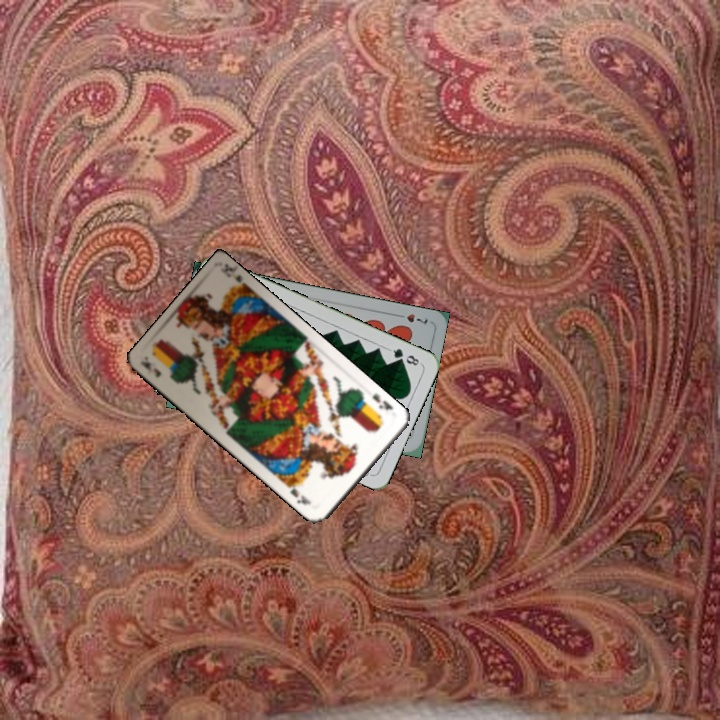EK: (368, 389, 396, 413), (139, 357, 164, 380)
G8: (385, 344, 424, 368)
H7: (391, 309, 431, 327)
